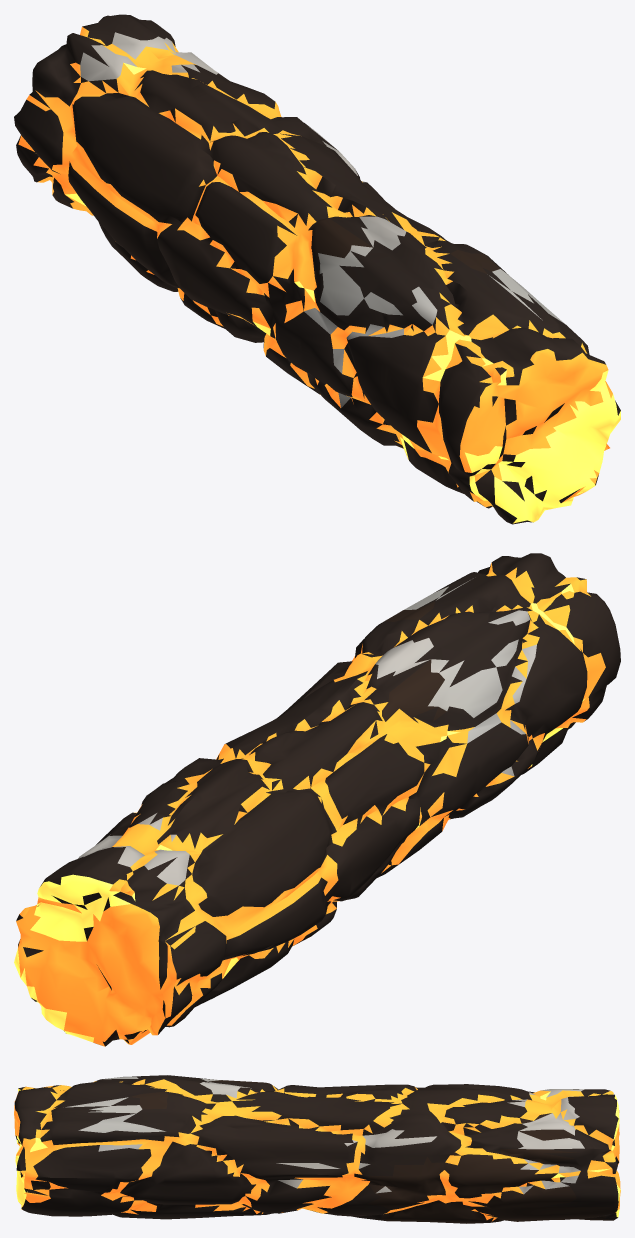
File: ember_log_burning.glb
3 renders of one model, top to bottom at view 1: azimuth 30°, elevation 25°; view 2: azimuth 150°, elevation 25°; view 3: azimuth 270°, elevation 25°, orthographic. The views are drawn at different scales.
Visible parts, largest first — view 1: ember_log_burning; view 2: ember_log_burning; view 3: ember_log_burning.
Boxes of the visible parts, left/top/right/bottom form: ember_log_burning: left=14, top=14, right=620, bottom=524; ember_log_burning: left=14, top=553, right=620, bottom=1046; ember_log_burning: left=14, top=1075, right=620, bottom=1223.
Size of the model in its own units: 10 by 9.87 by 40.48.
